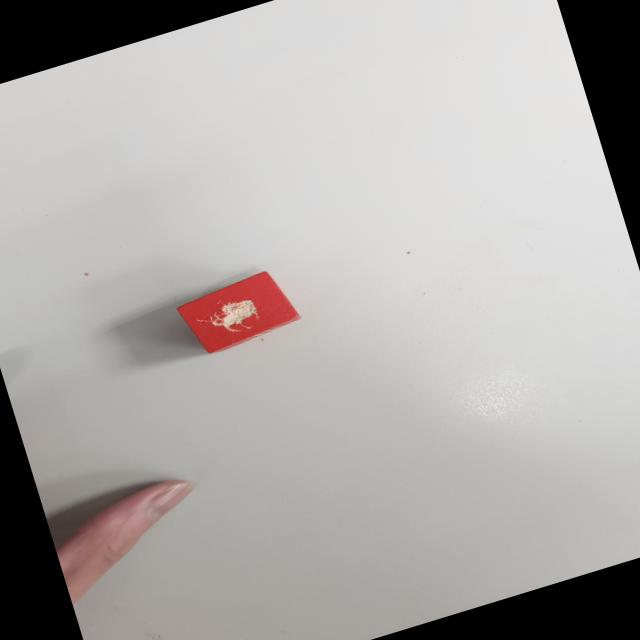broken: (172, 264, 304, 360)
